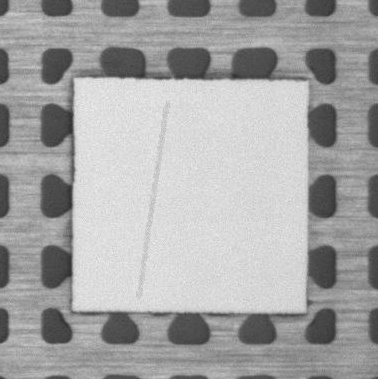DIE_CRACK: (139, 103, 167, 297)
